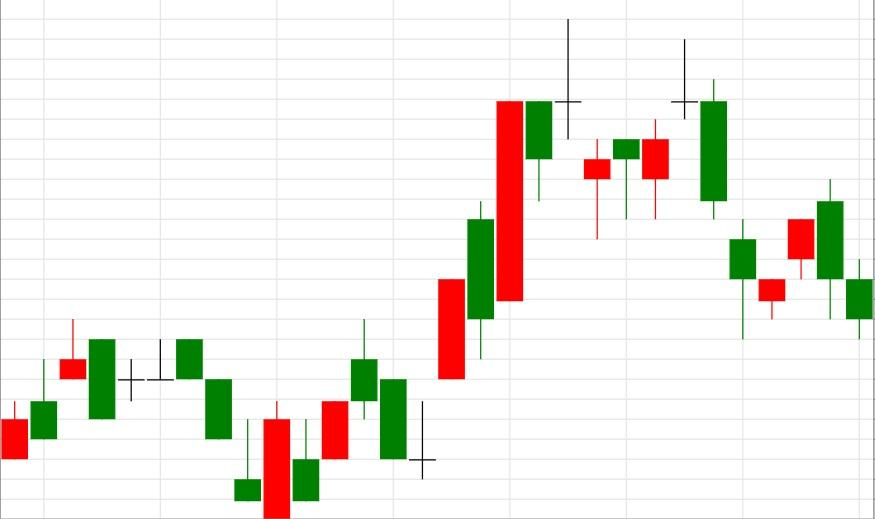bearish_engulfing_fall: (758, 180, 845, 318)
bullish_engulfing_rise: (175, 337, 291, 519)
